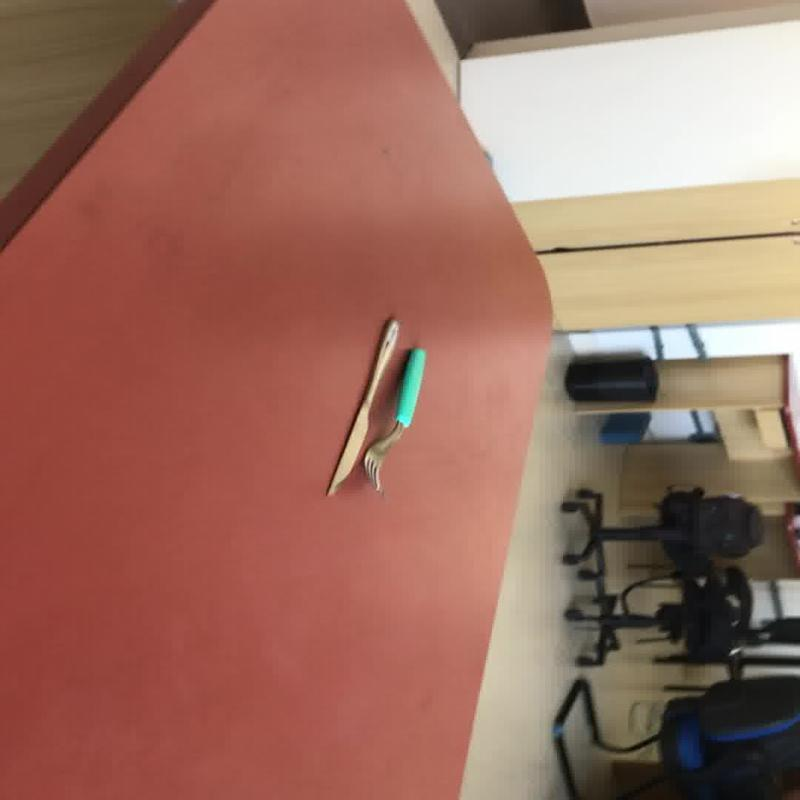fork: (362, 346, 426, 493)
knife: (322, 314, 427, 496), (323, 316, 400, 496)
